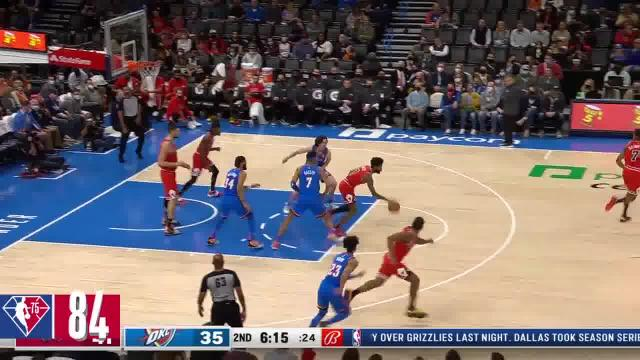ball-handler: (335, 156, 401, 238)
player: (359, 213, 439, 323), (270, 149, 348, 251), (213, 151, 267, 247), (306, 233, 359, 329), (273, 138, 340, 207), (149, 122, 187, 238), (176, 118, 231, 198), (604, 124, 640, 224)
